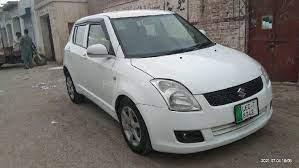Hatchback: (61, 10, 278, 156)
